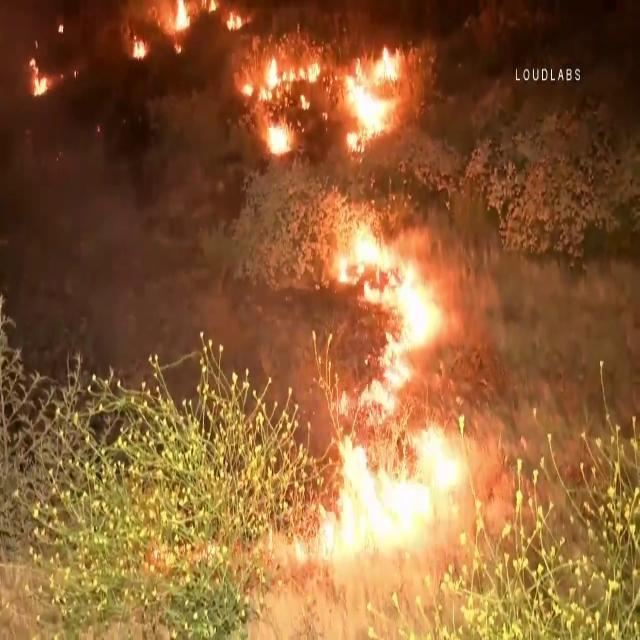Fire: (278, 214, 488, 574), (246, 22, 424, 160)
